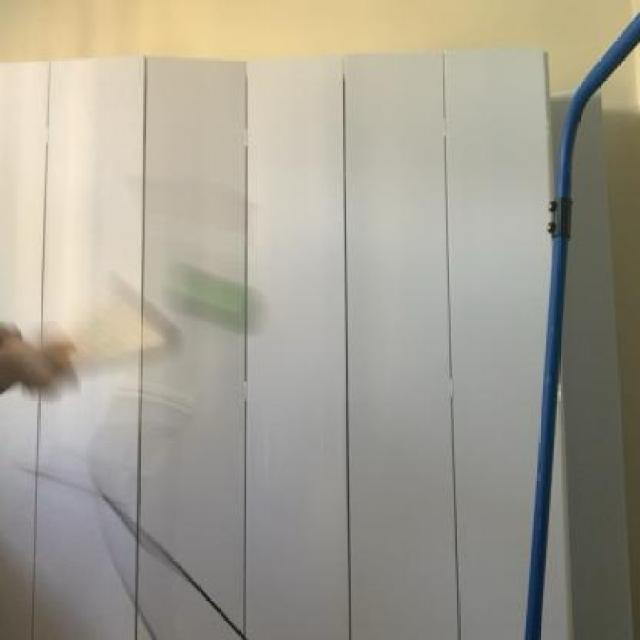baseball: (150, 253, 276, 344)
